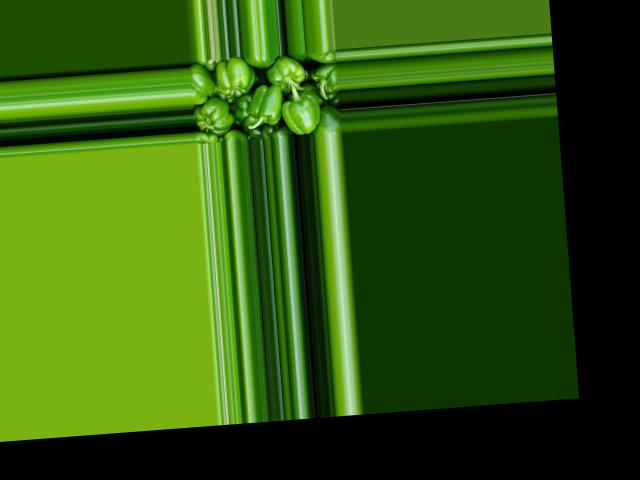bell_pepper: (308, 105, 343, 135)
